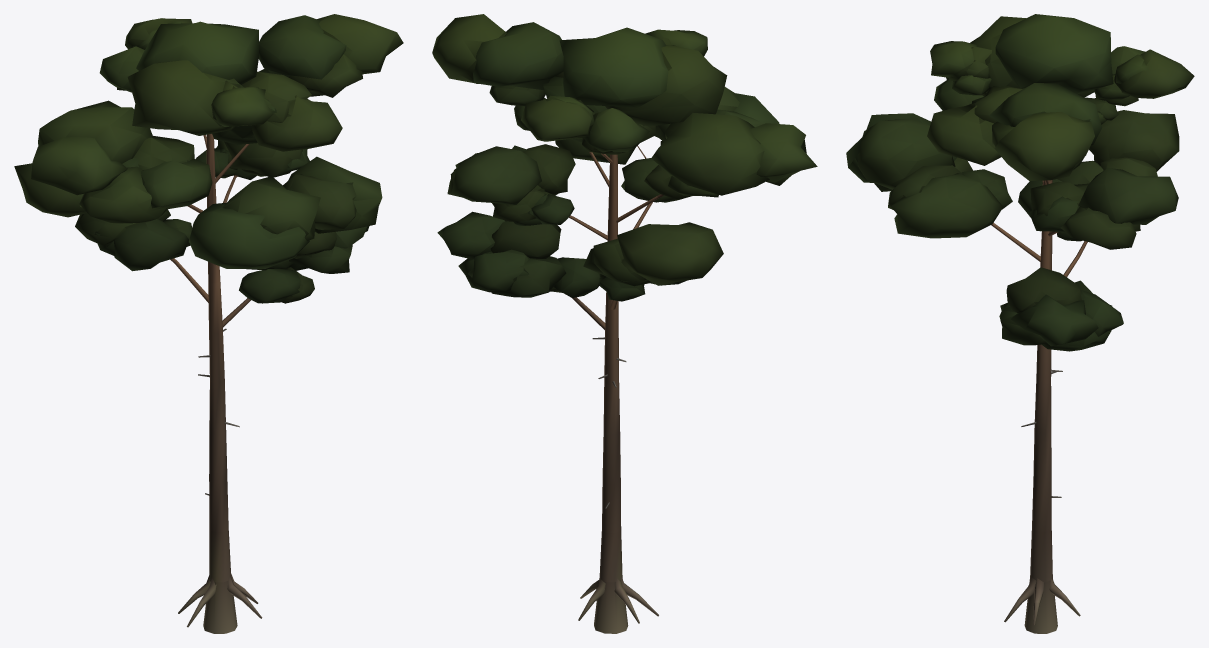
Rendered from pine_c.glb.
The picture shows the model from 3 angles, left to right: view 1: azimuth 30°, elevation 25°; view 2: azimuth 150°, elevation 25°; view 3: azimuth 270°, elevation 25°; orthographic projection.
Visible parts, largest first — view 1: LOD0; view 2: LOD0; view 3: LOD0.
Boxes of the visible parts, x1,y1,x2,y2 form: LOD0: (14,14,403,633); LOD0: (432,14,817,633); LOD0: (846,14,1194,633).
Size of what is drawn, in the model's own units: 10.87 by 16.63 by 8.71.
